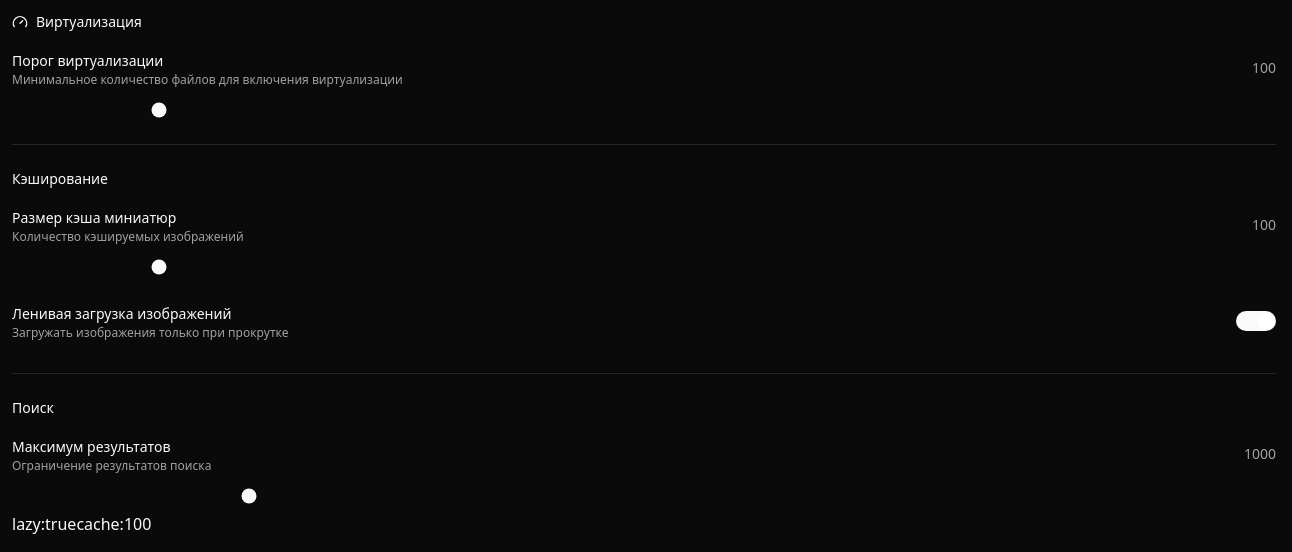
Test case: PerformanceSettings integration › toggle 'Ленивая загрузка изображений' updates store and reflected in consumer
The image size is (1292, 552).
Expected: the element with test id "perf-values" shows "lazy:true", 12,513 -> 151,535
Click the switch named "Ленивая загрузка изображений" at (1256, 321), box 1236,311 -> 1276,331
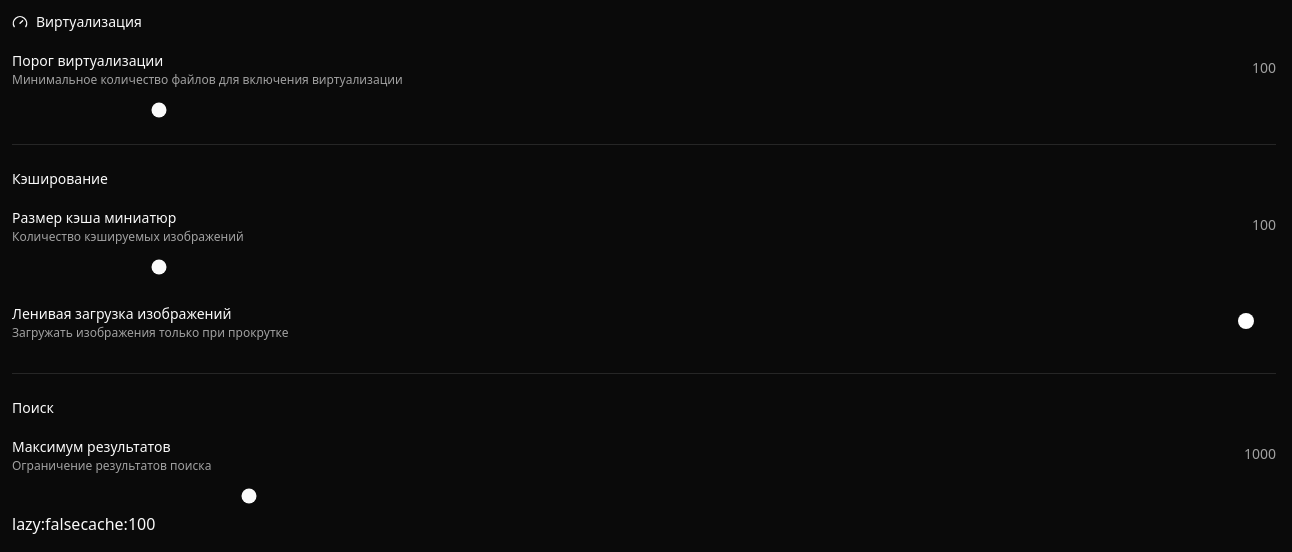
Result: the element with test id "perf-values" shows "lazy:false" at 12,513 -> 155,535
